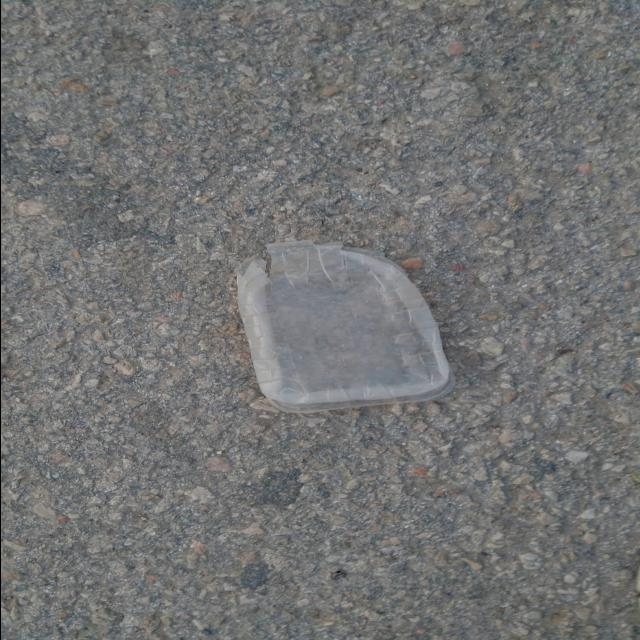Disposable food container: (234, 240, 455, 413)
